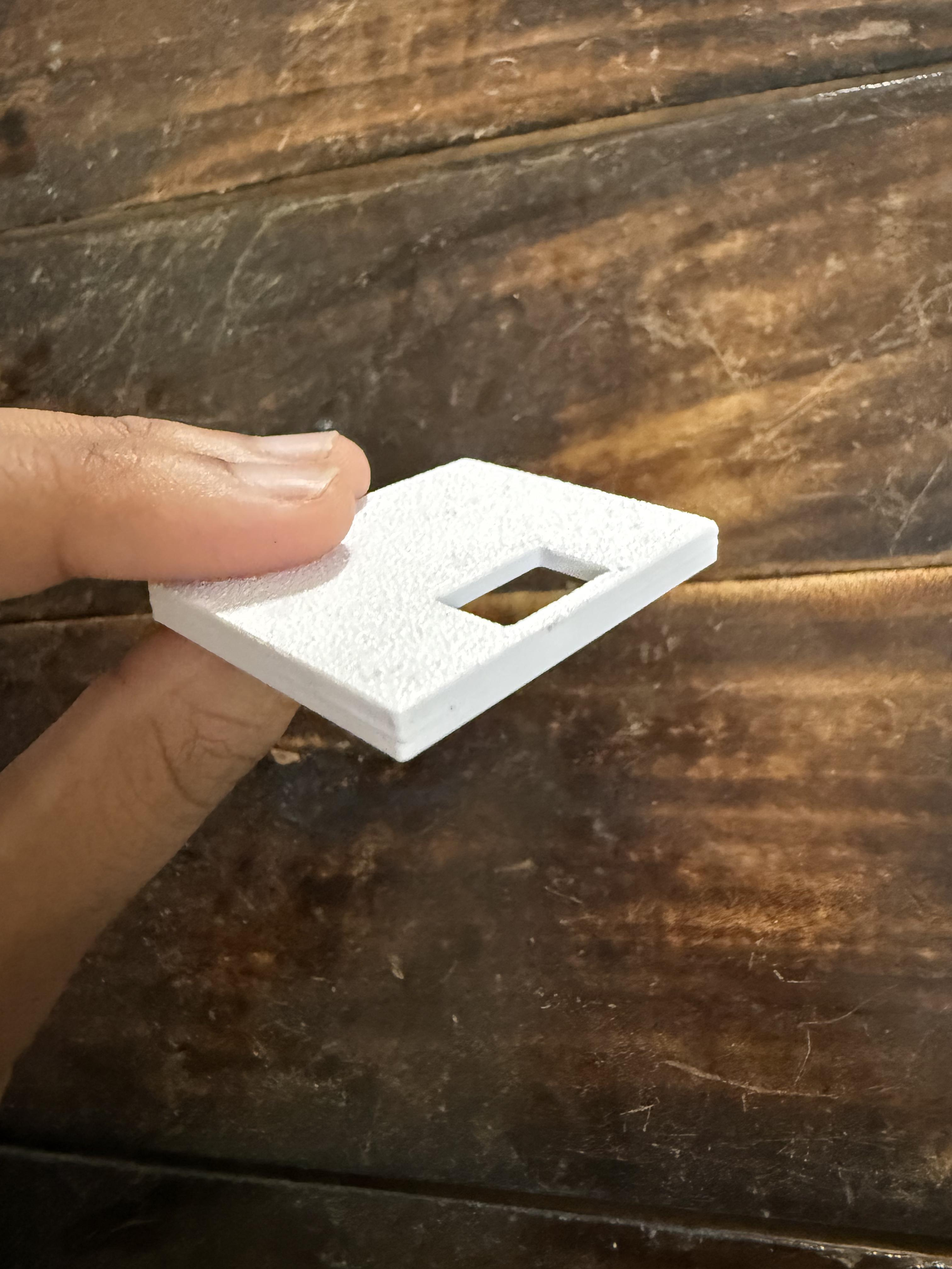enclosure: (146, 458, 719, 763)
